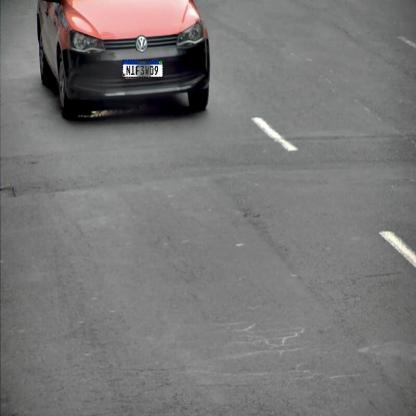PlacaM: (122, 60, 163, 78)
